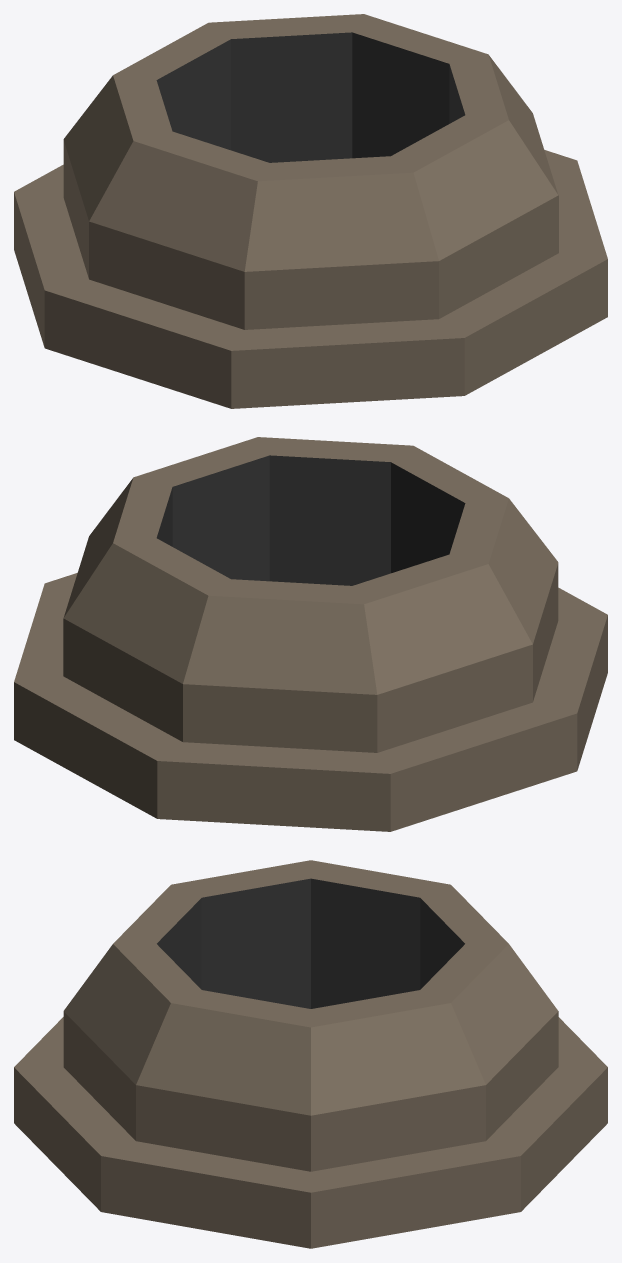
Rendered from steampunk_outlet.fbx.
3 views of the same model, one above another, from view 1: azimuth 30°, elevation 25°; view 2: azimuth 150°, elevation 25°; view 3: azimuth 270°, elevation 25° (orthographic). The views are drawn at different scales.
Visible parts, largest first — view 1: Cylinder.012; view 2: Cylinder.012; view 3: Cylinder.012.
Part boxes in pixels (x1,y1,x2,y2): Cylinder.012: (14,14,607,408); Cylinder.012: (14,437,607,831); Cylinder.012: (14,860,607,1248).
Bounding box in the file's own units: 0.48 × 0.16 × 0.48.
